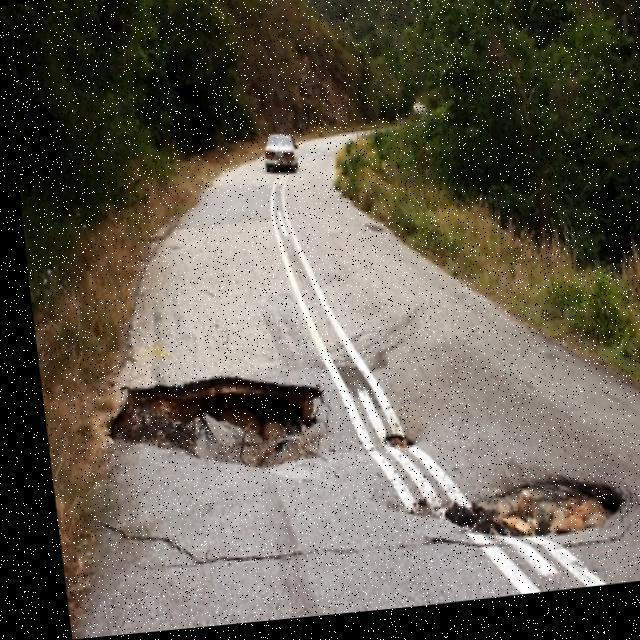Pothole: (110, 378, 322, 467), (445, 476, 624, 536), (379, 434, 415, 448)
